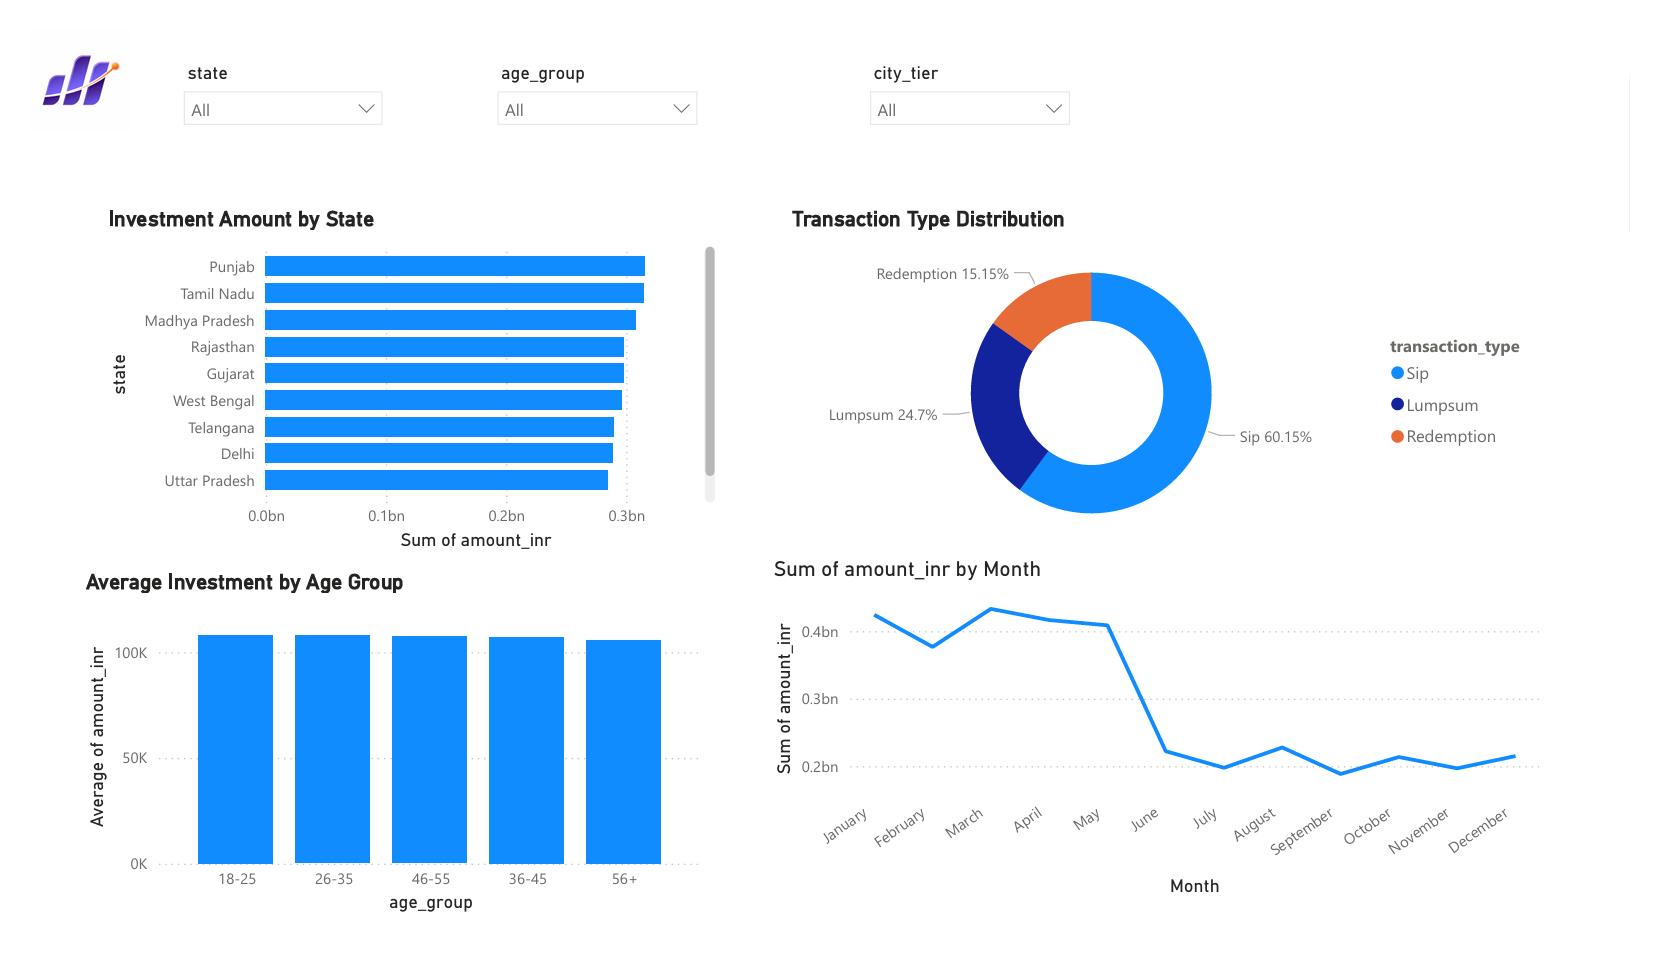

What the dashboard file says about the page in this screenshot:
{"tool":"powerbi","page":{"name":"Investor Analytics","canvas":[1280,720],"ordinal":2},"visuals":[{"type":"clusteredBarChart","title":"Investment Amount by State","fields":{"Y":["Sum(investor_transactions_cleaned.amount_inr)"],"Category":["investor_transactions_cleaned.state"]},"box":[57.6,141.3,495.4,279.9],"z":0},{"type":"donutChart","title":"Transaction Type Distribution","fields":{"Category":["investor_transactions_cleaned.transaction_type"],"Y":["CountNonNull(investor_transactions_cleaned.transaction_type)"]},"box":[605.1,141.3,606.5,279.9],"z":1000},{"type":"clusteredColumnChart","title":"Average Investment by Age Group","fields":{"Category":["investor_transactions_cleaned.age_group"],"Y":["Avg(investor_transactions_cleaned.amount_inr)"]},"box":[39.8,430.9,503.6,279.9],"z":2000},{"type":"lineChart","fields":{"Y":["Sum(investor_transactions_cleaned.amount_inr)"],"Category":["investor_transactions_cleaned.transaction_date.Variation.Date Hierarchy.Month"]},"box":[590.1,421.3,621.6,277.2],"z":3000},{"type":"slicer","fields":{"Values":["investor_transactions_cleaned.state"]},"box":[112.5,20.6,179.8,81],"z":4000},{"type":"slicer","fields":{"Values":["investor_transactions_cleaned.age_group"]},"box":[364,20.9,180.2,80.2],"z":5000},{"type":"slicer","fields":{"Values":["investor_transactions_cleaned.city_tier"]},"box":[661.6,20.9,180.2,80.2],"z":6000},{"type":"image","box":[0,0,81,81],"z":7000}]}

Visuals, with their boxes in screenshot pixels (x1, y1, x2, y2), scaled from the page's 1280x720 canvas onto the 1660x957 screenshot:
"Investment Amount by State" clusteredBarChart: (75, 188, 717, 560)
"Transaction Type Distribution" donutChart: (785, 188, 1571, 560)
"Average Investment by Age Group" clusteredColumnChart: (52, 573, 705, 945)
lineChart - Sum(investor_transactions_cleaned.amount_inr) x investor_transactions_cleaned.transaction_date.Variation.Date Hierarchy.Month: (765, 560, 1571, 928)
slicer - investor_transactions_cleaned.state: (146, 27, 379, 135)
slicer - investor_transactions_cleaned.age_group: (472, 28, 706, 134)
slicer - investor_transactions_cleaned.city_tier: (858, 28, 1092, 134)
image: (0, 0, 105, 108)
